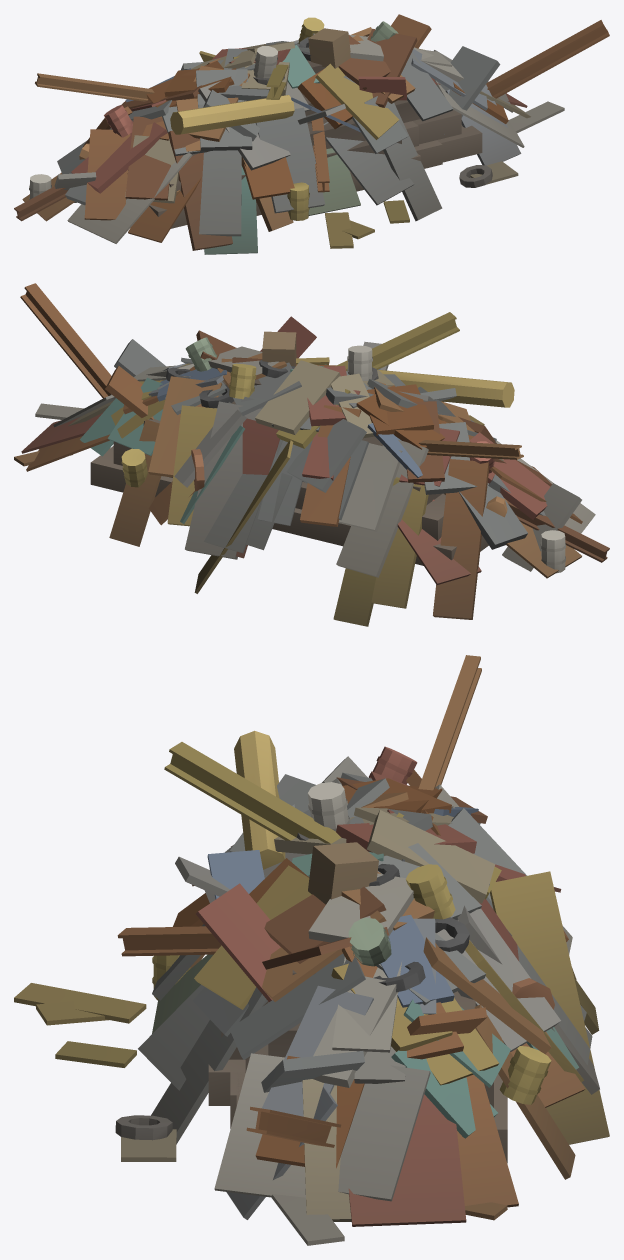
The model's file is heap_c.glb.
3 views of the same model, one above another, from view 1: azimuth 30°, elevation 25°; view 2: azimuth 150°, elevation 25°; view 3: azimuth 270°, elevation 25° (orthographic). The views are drawn at different scales.
Parts seen in each view (by area): view 1: heap_c; view 2: heap_c; view 3: heap_c.
Part boxes in pixels (box(x1,y1,x2,y2)): heap_c: box(14, 14, 609, 254); heap_c: box(14, 283, 609, 626); heap_c: box(14, 655, 609, 1245).
Bounding box in the file's own units: 17.65 × 5.49 × 9.63.
